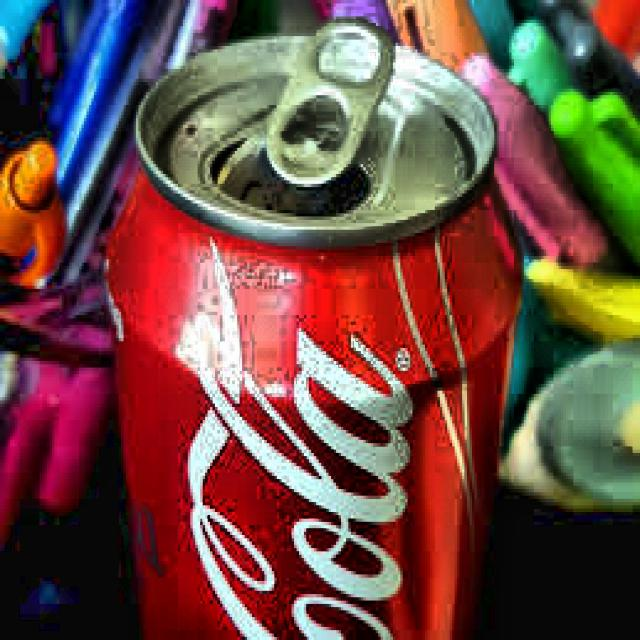Cans: (68, 9, 530, 640)
